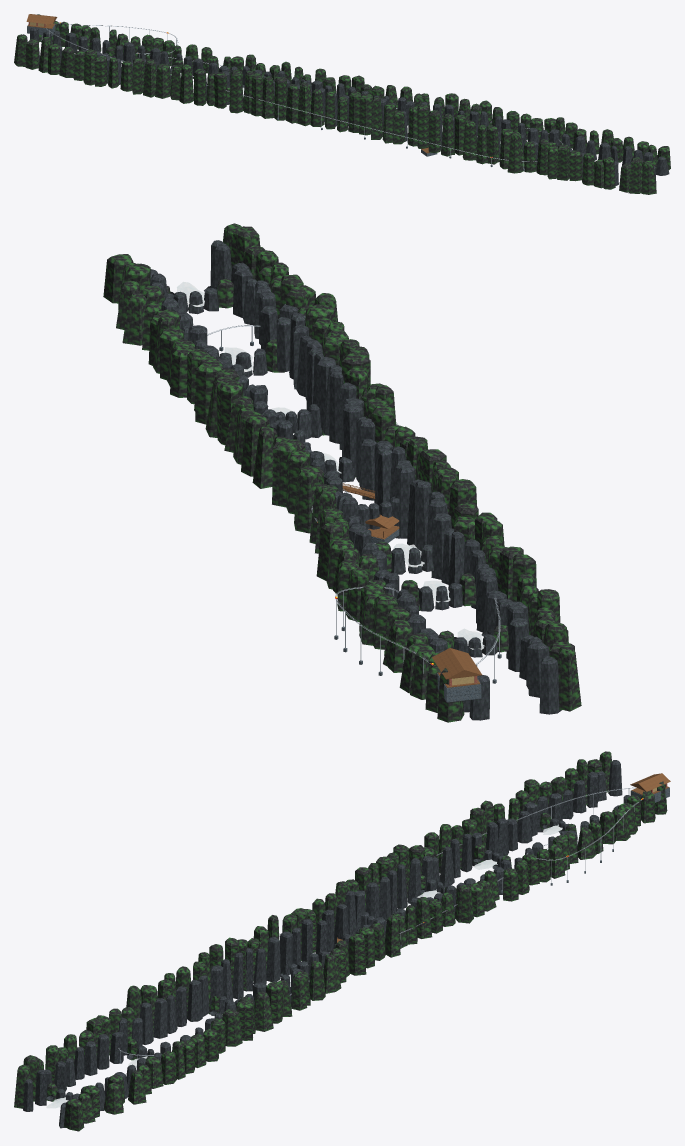
The model's file is cliff_thac_datanla_alpine_coaster.glb.
3 renders of one model, top to bottom at view 1: azimuth 30°, elevation 25°; view 2: azimuth 150°, elevation 25°; view 3: azimuth 270°, elevation 25°, orthographic. The views are drawn at different scales.
Parts seen in each view (by area): view 1: Datanla_Mossy_Canyon_Shoulders_And_Boulders, Datanla_7Tier_Columnar_Basalt_Gorge, Datanla_Alpine_Coaster_Dual_Tubular_Track, Datanla_Bridges_ViewingDecks_And_StationRoof; view 2: Datanla_Mossy_Canyon_Shoulders_And_Boulders, Datanla_7Tier_Columnar_Basalt_Gorge, Datanla_Bridges_ViewingDecks_And_StationRoof, Datanla_7Tier_Plunge_Water_Foam, Datanla_Alpine_Coaster_Dual_Tubular_Track, Datanla_Green_Split_Stone_Retaining_And_Piers; view 3: Datanla_Mossy_Canyon_Shoulders_And_Boulders, Datanla_7Tier_Columnar_Basalt_Gorge, Datanla_Alpine_Coaster_Dual_Tubular_Track, Datanla_7Tier_Plunge_Water_Foam.
Boxes of the visible parts, x1,y1,x2,y2 form: Datanla_Mossy_Canyon_Shoulders_And_Boulders: (14, 14, 670, 194); Datanla_7Tier_Columnar_Basalt_Gorge: (23, 26, 669, 186); Datanla_Alpine_Coaster_Dual_Tubular_Track: (41, 22, 562, 168); Datanla_Bridges_ViewingDecks_And_StationRoof: (26, 14, 429, 153); Datanla_Mossy_Canyon_Shoulders_And_Boulders: (103, 223, 581, 722); Datanla_7Tier_Columnar_Basalt_Gorge: (140, 240, 561, 720); Datanla_Bridges_ViewingDecks_And_StationRoof: (342, 483, 482, 687); Datanla_7Tier_Plunge_Water_Foam: (177, 281, 484, 649); Datanla_Alpine_Coaster_Dual_Tubular_Track: (207, 325, 500, 679); Datanla_Green_Split_Stone_Retaining_And_Piers: (219, 341, 501, 702); Datanla_Mossy_Canyon_Shoulders_And_Boulders: (14, 751, 667, 1131); Datanla_7Tier_Columnar_Basalt_Gorge: (23, 760, 640, 1128); Datanla_Alpine_Coaster_Dual_Tubular_Track: (118, 787, 643, 1060); Datanla_7Tier_Plunge_Water_Foam: (46, 824, 562, 1108).
Size of the model in its own units: 475 by 88.48 by 479.
Materials: 10 (7 with a texture image).
